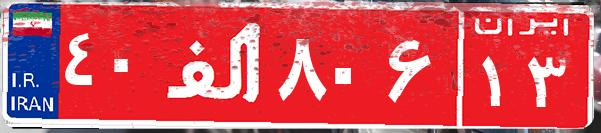0: (330, 28, 385, 110), (110, 28, 158, 105)
1: (475, 38, 525, 113)
3: (525, 38, 570, 115)
4: (57, 26, 110, 107)
6: (385, 28, 445, 110)
8: (273, 28, 330, 110)
الف: (158, 15, 273, 115)
